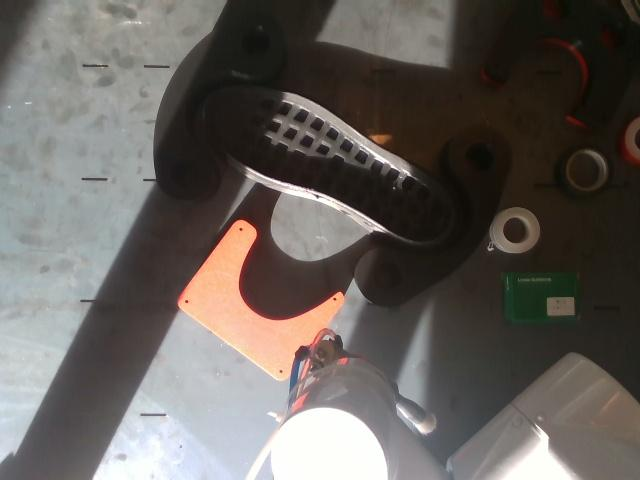shoes: (203, 85, 452, 241)
